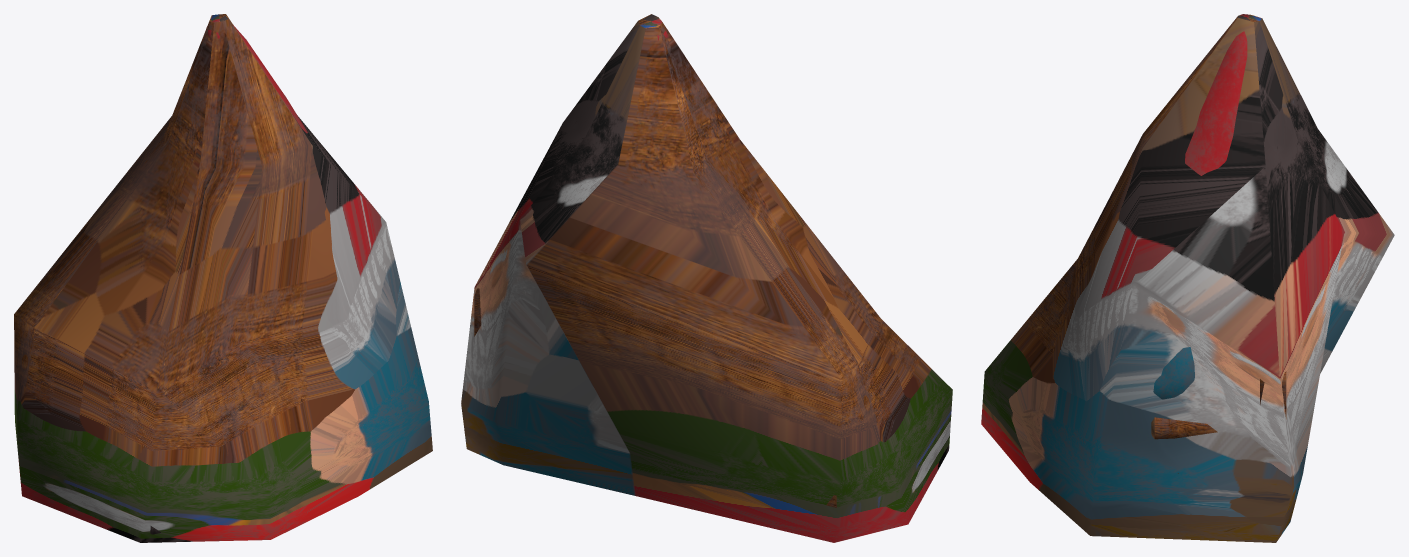
File: garden_gnome_G.FBX
The picture shows the model from 3 angles, left to right: view 1: azimuth 30°, elevation 25°; view 2: azimuth 150°, elevation 25°; view 3: azimuth 270°, elevation 25°; orthographic projection. The views are drawn at different scales.
Visible parts, largest first — view 1: garden_gnome_G_COL, garden_gnome_G_LOD0; view 2: garden_gnome_G_COL; view 3: garden_gnome_G_COL, garden_gnome_G_LOD0.
Boxes of the visible parts, left/top/right/bottom form: garden_gnome_G_COL: left=14, top=14, right=432, bottom=542; garden_gnome_G_LOD0: left=150, top=25, right=307, bottom=534; garden_gnome_G_COL: left=461, top=14, right=952, bottom=542; garden_gnome_G_COL: left=981, top=14, right=1394, bottom=542; garden_gnome_G_LOD0: left=1151, top=31, right=1286, bottom=473.
Size of what is drawn, in the model's own units: 40.18 by 43.69 by 36.34.
